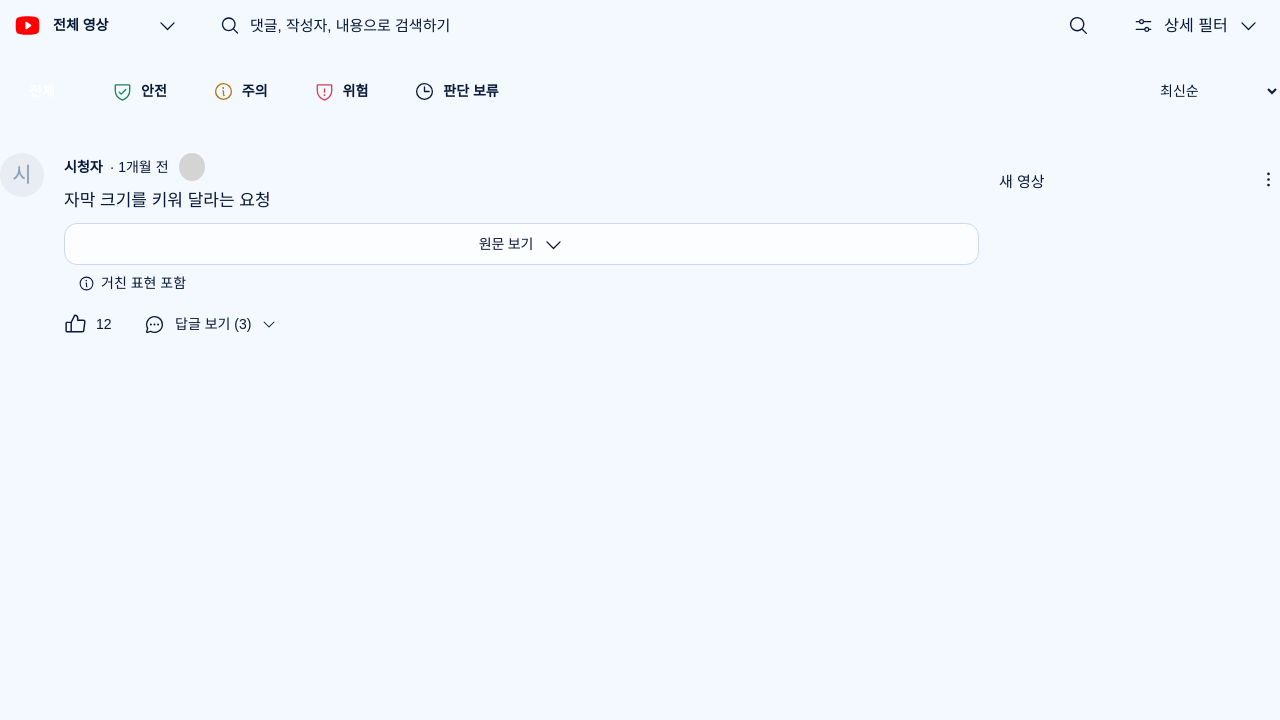
it: Comment Inbox feed › requires a warning before fetching the source
The image size is (1280, 720).
Click the button "원문 보기".
click(522, 244)  # box [64,223,979,265]
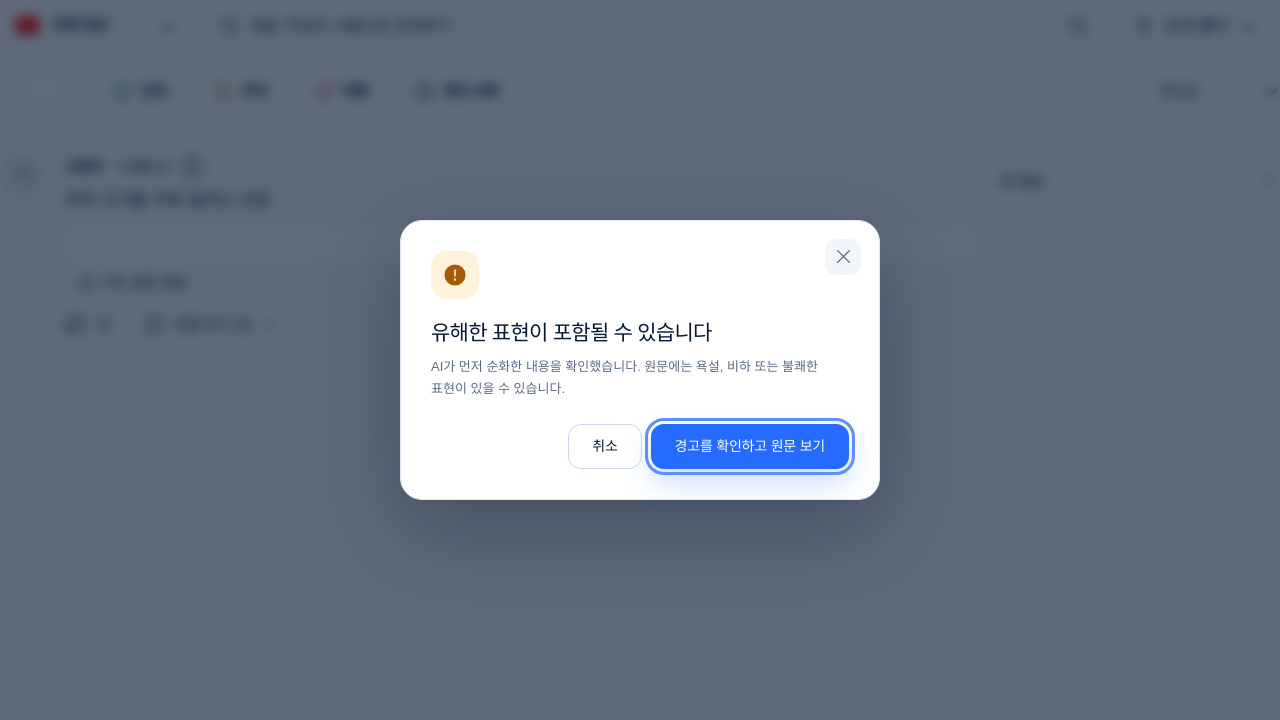
Expected: the dialog shows "유해한 표현이 포함될 수 있습니다", [431,321,712,344]
